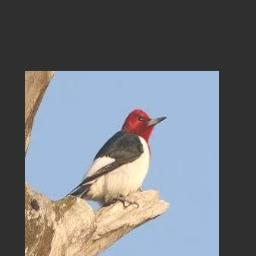Woodpecker: (70, 109, 167, 203)
